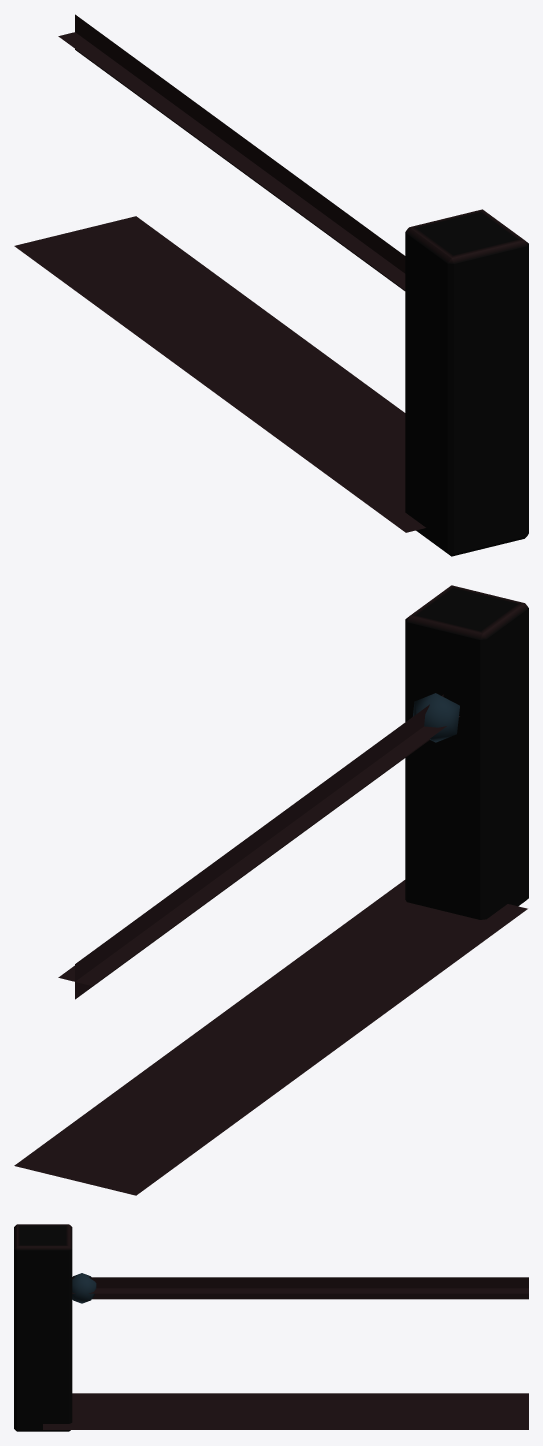
File: sensor_ice.glb
3 renders of one model, top to bottom at view 1: azimuth 30°, elevation 25°; view 2: azimuth 150°, elevation 25°; view 3: azimuth 270°, elevation 25°, orthographic. The views are drawn at different scales.
Parts seen in each view (by area): view 1: sensor_ice_beam, sensor_ice_post; view 2: sensor_ice_beam, sensor_ice_post, sensor_ice_lens_shell1; view 3: sensor_ice_beam, sensor_ice_post, sensor_ice_lens_shell1.
Part boxes in pixels (box(x1,y1,x2,y2)): sensor_ice_beam: box(14, 14, 425, 532); sensor_ice_post: box(405, 209, 528, 556); sensor_ice_beam: box(14, 694, 527, 1195); sensor_ice_post: box(405, 585, 528, 919); sensor_ice_lens_shell1: box(413, 693, 459, 742); sensor_ice_beam: box(43, 1277, 528, 1429); sensor_ice_post: box(14, 1224, 72, 1431); sensor_ice_lens_shell1: box(72, 1273, 96, 1303).
Size of the model in its own units: 0.18 by 0.42 by 1.06.
